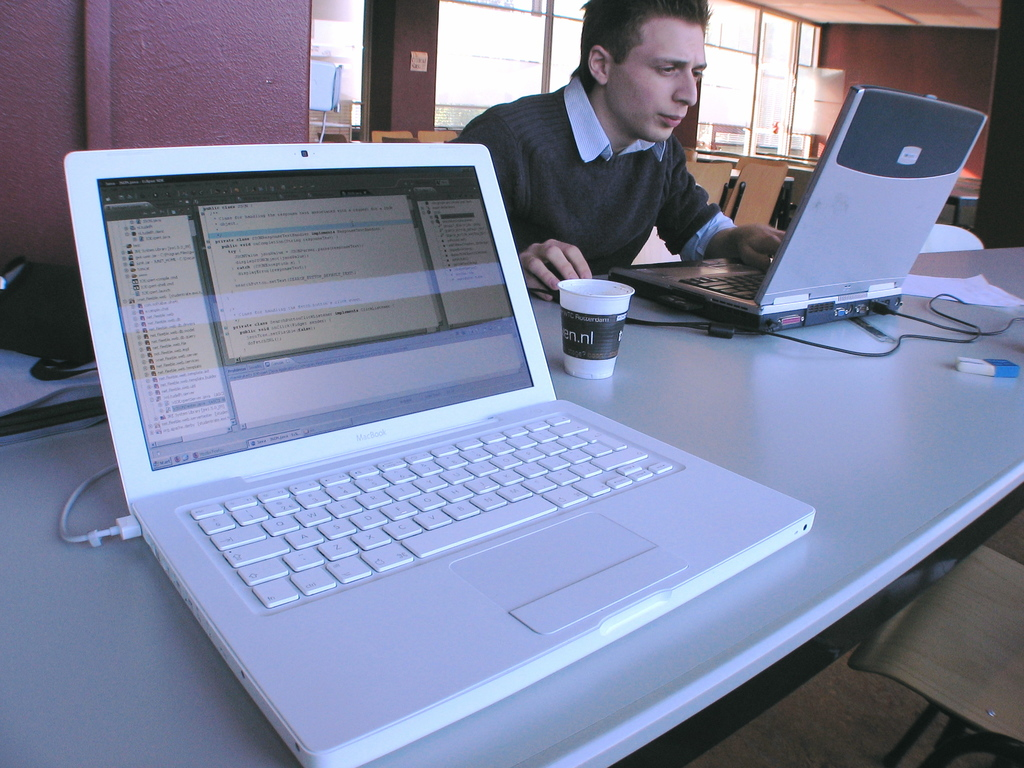Laptop: (61, 140, 818, 767), (604, 87, 989, 331)
